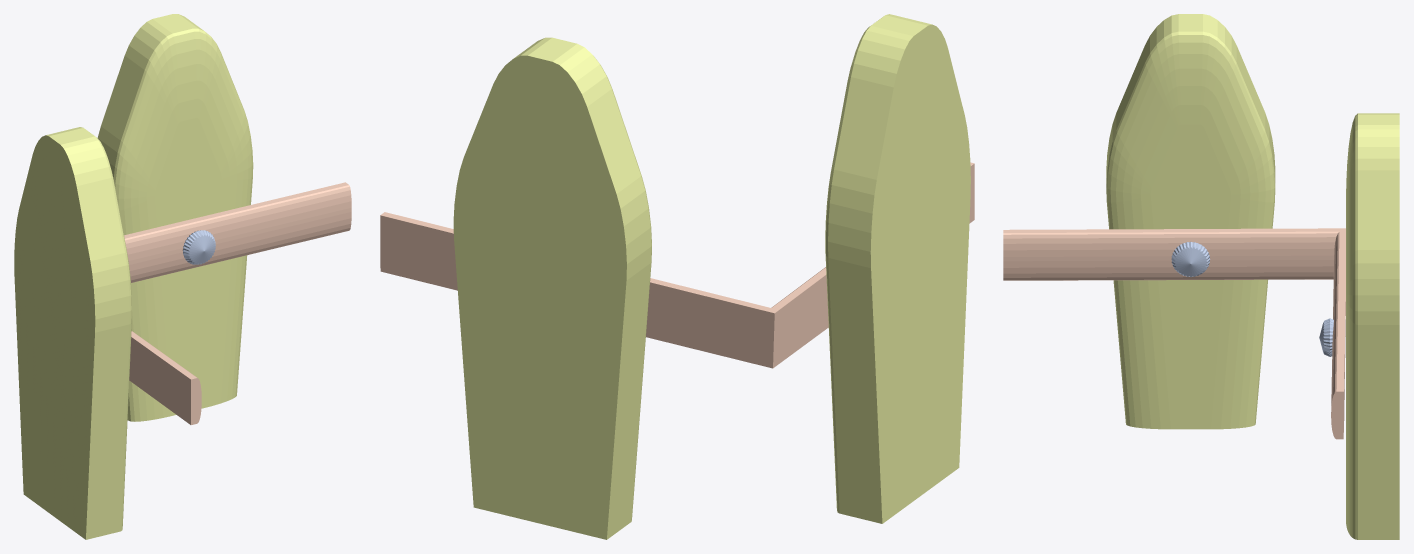
Rendered from fenceCorner.fbx.
3 views of the same model, side by side, from view 1: azimuth 30°, elevation 25°; view 2: azimuth 150°, elevation 25°; view 3: azimuth 270°, elevation 25° (orthographic). The views are drawn at different scales.
Parts seen in each view (by area): view 1: Cube, Cube.001, Cube.002, Cylinder; view 2: Cube.001, Cube, Cube.002; view 3: Cube, Cube.001, Cube.002, Cylinder.001.
Boxes of the visible parts, x1,y1,x2,y2 form: Cube: [14, 127, 131, 539]; Cube.001: [97, 14, 253, 421]; Cube.002: [124, 182, 351, 424]; Cylinder: [182, 230, 215, 264]; Cube.001: [453, 37, 651, 539]; Cube: [825, 14, 970, 523]; Cube.002: [380, 162, 974, 368]; Cube: [1106, 14, 1275, 429]; Cube.001: [1346, 113, 1399, 539]; Cube.002: [1003, 228, 1345, 439]; Cylinder.001: [1171, 242, 1210, 276].
Size of the model in its own units: 72.37 by 79.1 by 80.08.
